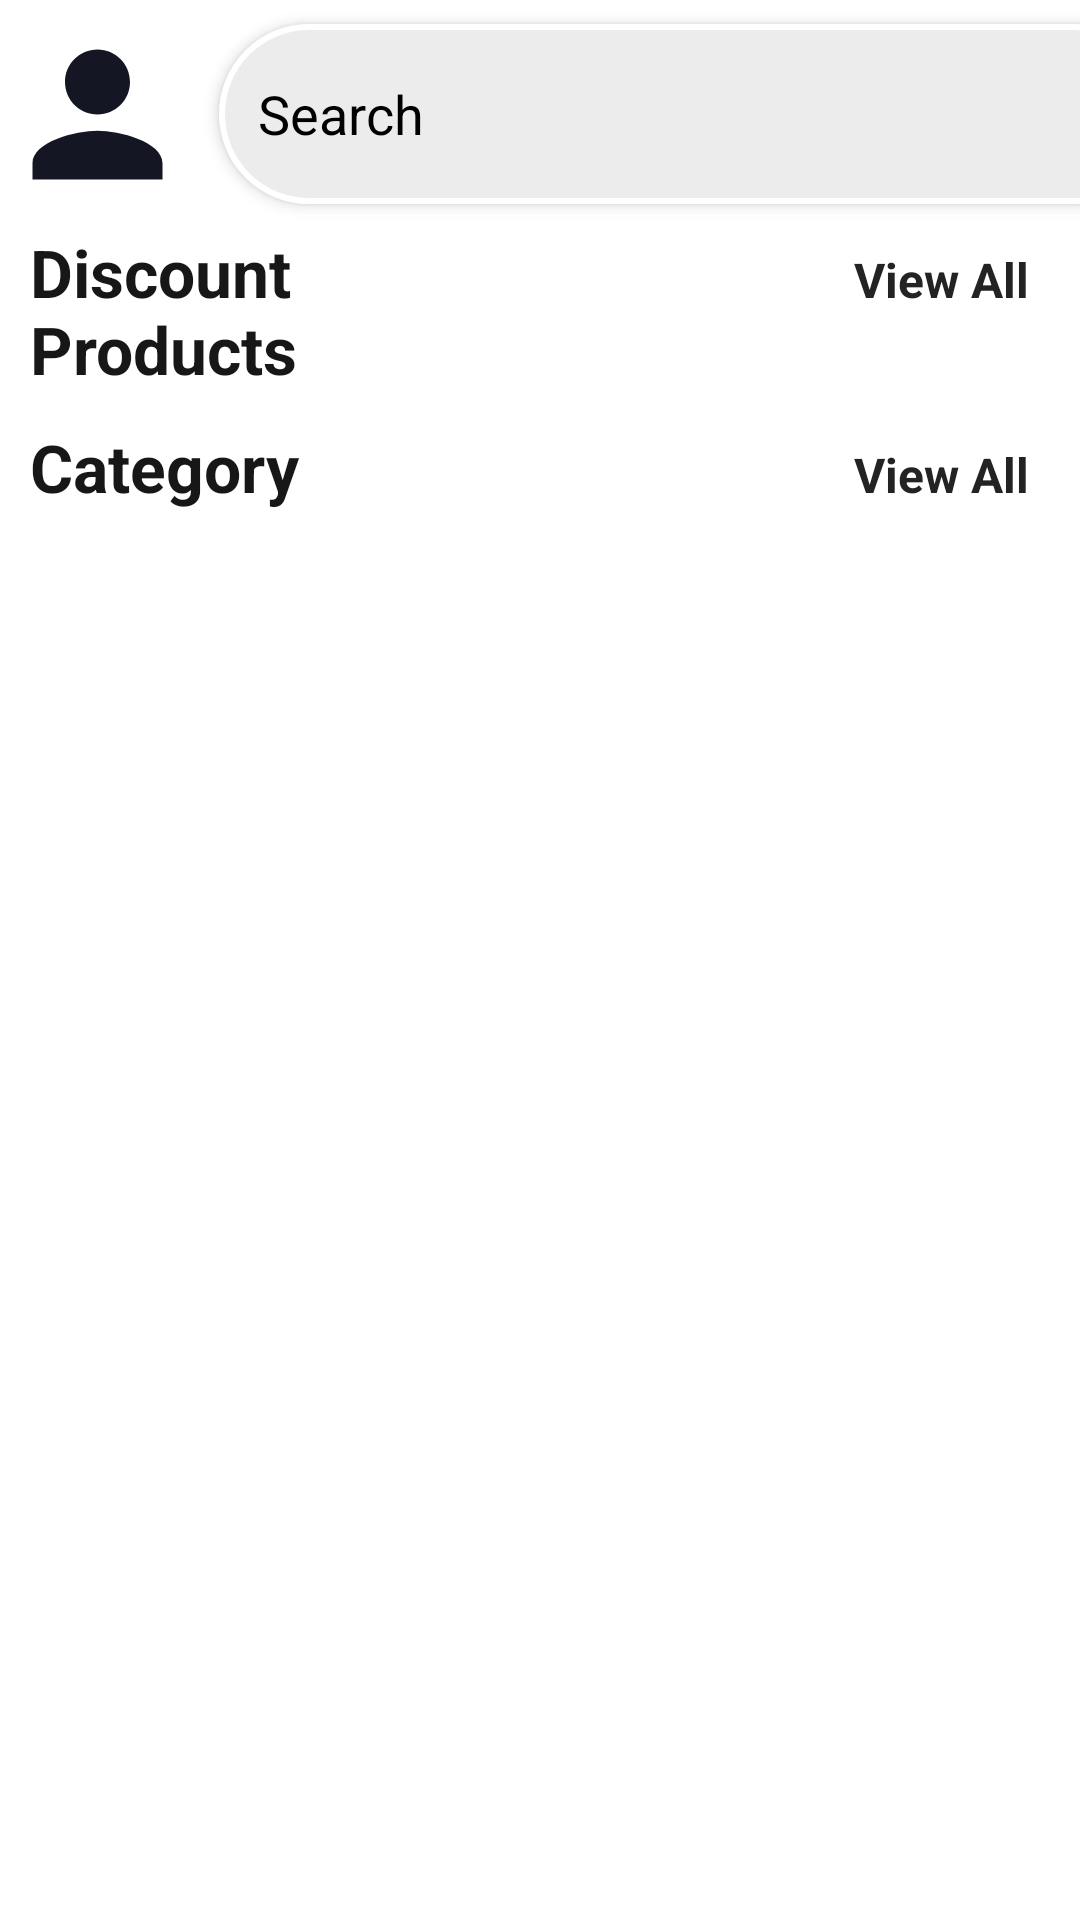

Icons on this 1080px x 1920px Android screen, each with its box as (x1, y1, x2, y2):
person: (32, 49, 163, 180)
